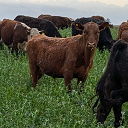vaca: (23, 22, 102, 93), (0, 17, 36, 58)
